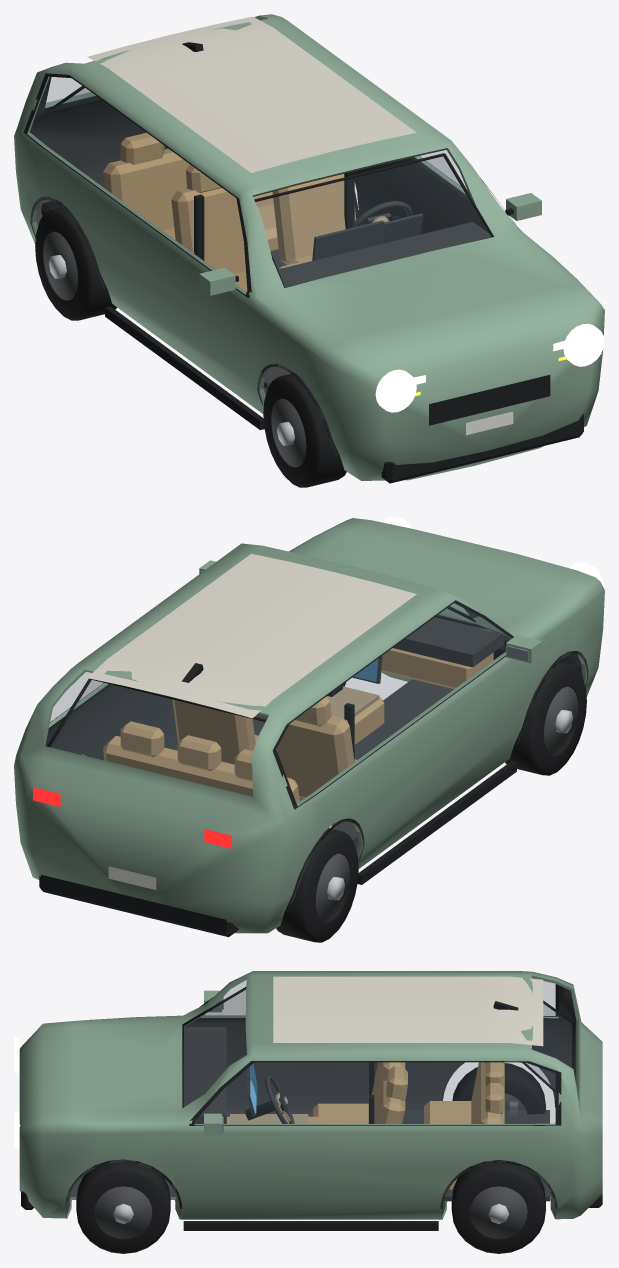
The model's file is fleet-mini.glb.
The picture shows the model from 3 angles, top to bottom: view 1: azimuth 30°, elevation 25°; view 2: azimuth 150°, elevation 25°; view 3: azimuth 270°, elevation 25°; orthographic projection. The views are drawn at different scales.
Visible parts, largest first — view 1: Body, Surface_CarRoot_Glass, ContrastRoofPanel, Interior_CarRoot_InteriorLeather, Surface_CarRoot_BlackTrim, Interior_CarRoot_InteriorDark, Surface_WheelFrontR_Tyre, Surface_WheelRearR_Tyre, Surface_CarRoot_Headlight, Surface_CarRoot_Paint, WheelFrontR_Rim, WheelRearR_Rim (+3 smaller); view 2: Body, Surface_CarRoot_Glass, ContrastRoofPanel, Interior_CarRoot_InteriorLeather, Surface_CarRoot_BlackTrim, Interior_CarRoot_InteriorDark, Surface_WheelRearR_Tyre, Surface_WheelFrontR_Tyre, WheelRearR_Rim, WheelFrontR_Rim, Interior_CarRoot_InteriorTrim, Surface_CarRoot_Taillight (+3 smaller); view 3: Body, Surface_CarRoot_Glass, ContrastRoofPanel, Interior_CarRoot_InteriorLeather, Surface_CarRoot_BlackTrim, Surface_WheelFrontL_Tyre, Surface_WheelRearL_Tyre, Interior_CarRoot_InteriorDark, WheelFrontL_Rim, WheelRearL_Rim, Surface_WheelRearR_Tyre, Surface_CarRoot_Cladding (+5 smaller).
Part boxes in pixels (x1=…): Body: x1=14, y1=14, x2=604, y2=480; Surface_CarRoot_Glass: x1=27, y1=77, x2=501, y2=293; ContrastRoofPanel: x1=87, y1=16, x2=416, y2=172; Interior_CarRoot_InteriorLeather: x1=103, y1=132, x2=356, y2=291; Surface_CarRoot_BlackTrim: x1=23, y1=42, x2=583, y2=483; Interior_CarRoot_InteriorDark: x1=263, y1=213, x2=491, y2=389; Surface_WheelFrontR_Tyre: x1=263, y1=373, x2=346, y2=487; Surface_WheelRearR_Tyre: x1=35, y1=206, x2=116, y2=320; Surface_CarRoot_Headlight: x1=375, y1=323, x2=604, y2=412; Surface_CarRoot_Paint: x1=199, y1=193, x2=541, y2=295; WheelFrontR_Rim: x1=271, y1=398, x2=306, y2=466; WheelRearR_Rim: x1=43, y1=231, x2=78, y2=299; Body: x1=14, y1=518, x2=604, y2=933; Surface_CarRoot_Glass: x1=50, y1=603, x2=510, y2=805; ContrastRoofPanel: x1=87, y1=553, x2=416, y2=718; Interior_CarRoot_InteriorLeather: x1=103, y1=648, x2=493, y2=828; Surface_CarRoot_BlackTrim: x1=39, y1=600, x2=580, y2=937; Interior_CarRoot_InteriorDark: x1=252, y1=617, x2=503, y2=843; Surface_WheelRearR_Tyre: x1=276, y1=828, x2=358, y2=942; Surface_WheelFrontR_Tyre: x1=505, y1=661, x2=586, y2=775; WheelRearR_Rim: x1=315, y1=853, x2=350, y2=921; WheelFrontR_Rim: x1=544, y1=686, x2=578, y2=754; Interior_CarRoot_InteriorTrim: x1=327, y1=686, x2=379, y2=718; Surface_CarRoot_Taillight: x1=33, y1=787, x2=231, y2=848; Body: x1=19, y1=971, x2=602, y2=1219; Surface_CarRoot_Glass: x1=184, y1=980, x2=572, y2=1124; ContrastRoofPanel: x1=273, y1=976, x2=543, y2=1046; Interior_CarRoot_InteriorLeather: x1=226, y1=1062, x2=504, y2=1189; Surface_CarRoot_BlackTrim: x1=21, y1=984, x2=602, y2=1230; Surface_WheelFrontL_Tyre: x1=76, y1=1159, x2=170, y2=1253; Surface_WheelRearL_Tyre: x1=451, y1=1160, x2=545, y2=1253; Interior_CarRoot_InteriorDark: x1=184, y1=1027, x2=549, y2=1201; WheelFrontL_Rim: x1=94, y1=1186, x2=152, y2=1238; WheelRearL_Rim: x1=470, y1=1186, x2=527, y2=1238; Surface_WheelRearR_Tyre: x1=452, y1=1063, x2=545, y2=1114; Surface_CarRoot_Cladding: x1=64, y1=1067, x2=557, y2=1208.
Size of the model in its own units: 2.1 by 1.46 by 3.93.
